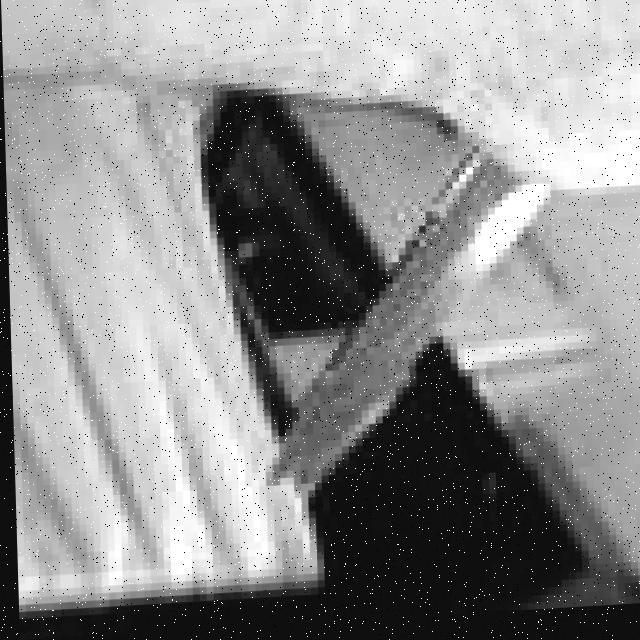knife: (255, 147, 557, 506)
